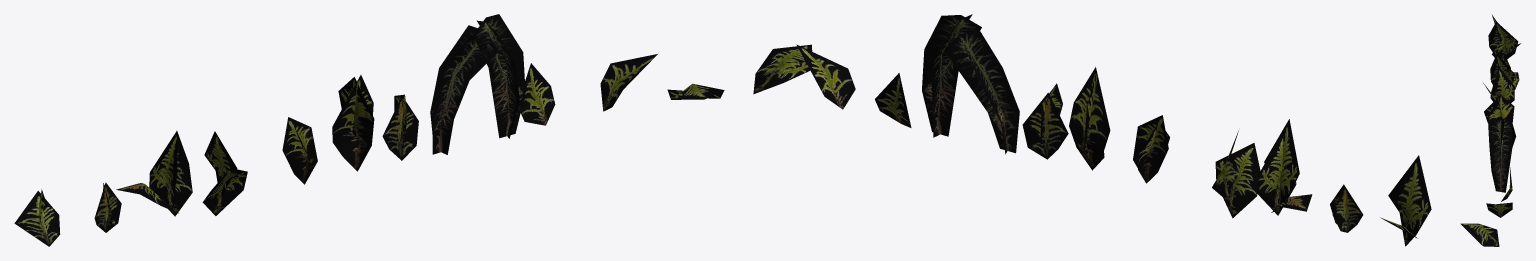
The model's file is moss_01.glb.
The picture shows the model from 3 angles, left to right: view 1: azimuth 30°, elevation 25°; view 2: azimuth 150°, elevation 25°; view 3: azimuth 270°, elevation 25°; orthographic projection. The views are drawn at different scales.
Parts seen in each view (by area): view 1: moss_01_c_LOD0; view 2: moss_01_c_LOD0; view 3: moss_01_c_LOD0.
Part boxes in pixels (bbox=[...]): moss_01_c_LOD0: bbox=[14, 14, 724, 246]; moss_01_c_LOD0: bbox=[753, 14, 1431, 246]; moss_01_c_LOD0: bbox=[1460, 15, 1520, 246].
Size of the model in its own units: 0.2153 by 0.0404 by 0.0294.
Materials: 1 (1 with a texture image).
